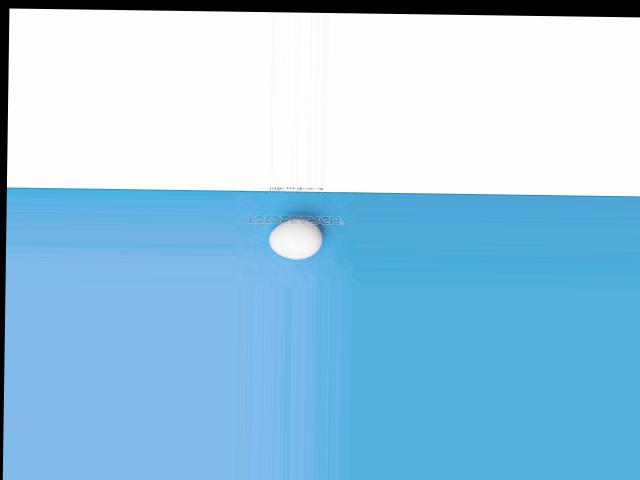egg: (269, 217, 323, 259)
